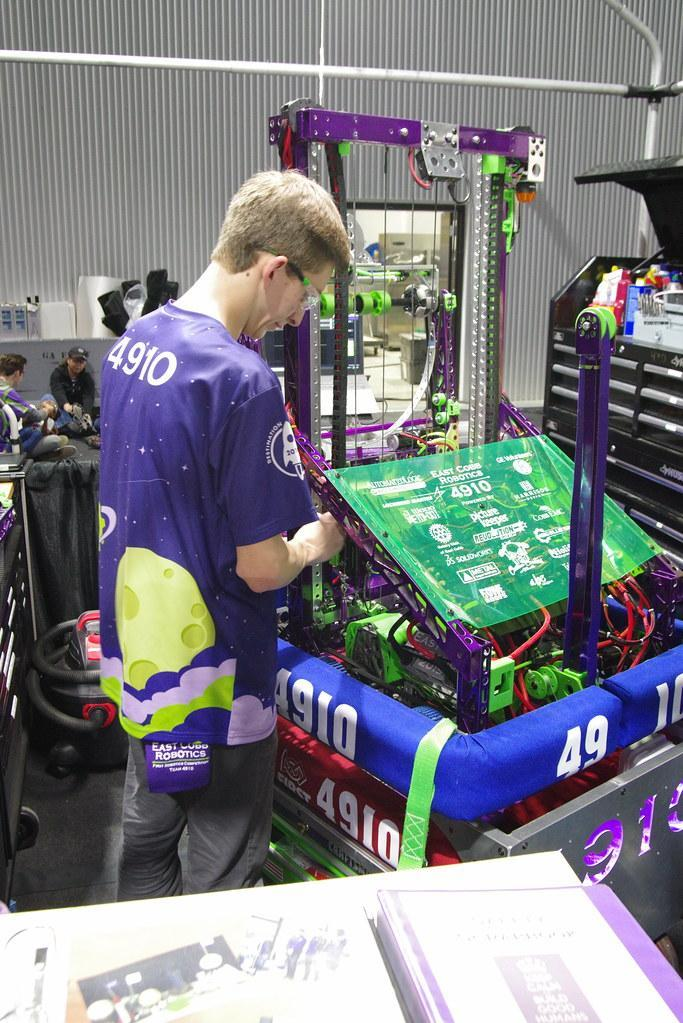robot: (183, 81, 683, 834)
